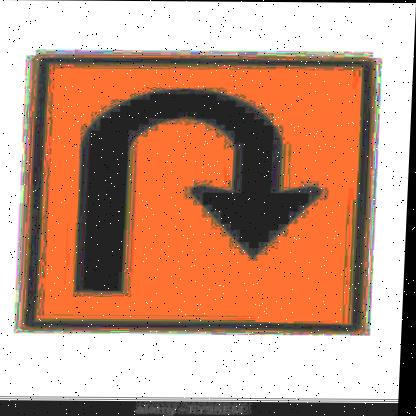U-turn: (9, 52, 376, 336)
